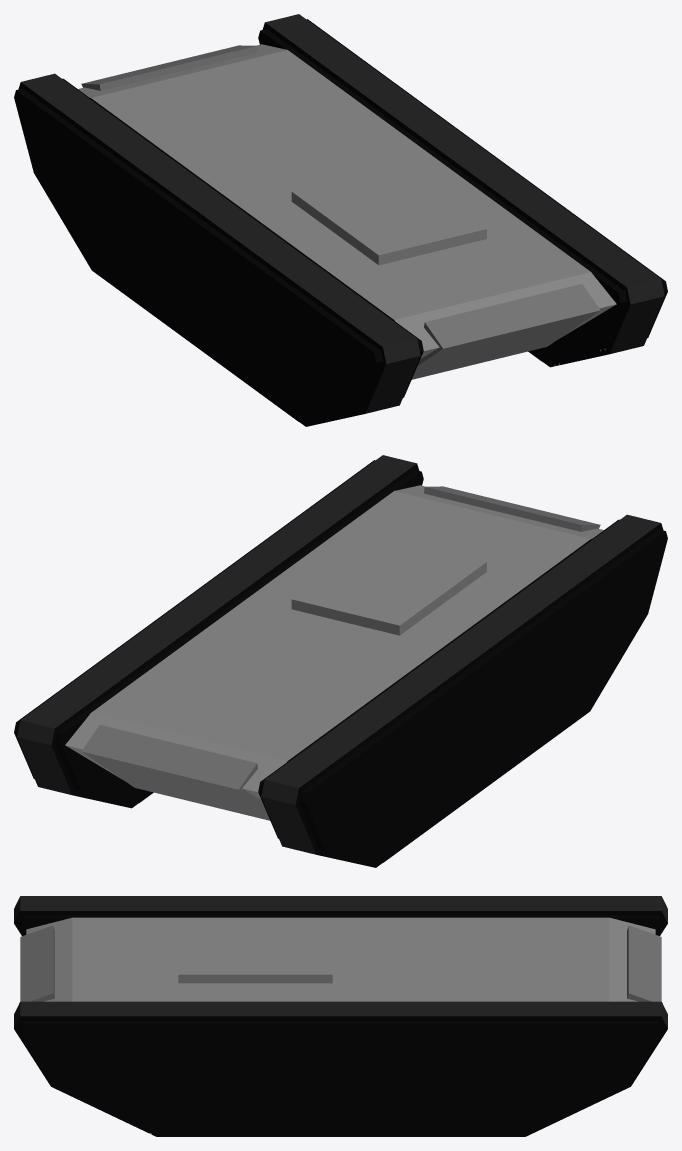
Rendered from EnemyBruteTracks.fbx.
3 views of the same model, one above another, from view 1: azimuth 30°, elevation 25°; view 2: azimuth 150°, elevation 25°; view 3: azimuth 270°, elevation 25° (orthographic). The views are drawn at different scales.
Parts seen in each view (by area): view 1: Cube.003; view 2: Cube.003; view 3: Cube.003.
Boxes of the visible parts, x1,y1,x2,y2 form: Cube.003: [14, 14, 667, 426]; Cube.003: [14, 455, 667, 867]; Cube.003: [14, 896, 667, 1136].
Bounding box in the file's own units: 244 × 113 × 536.
Materials: 1 (1 with a texture image).
